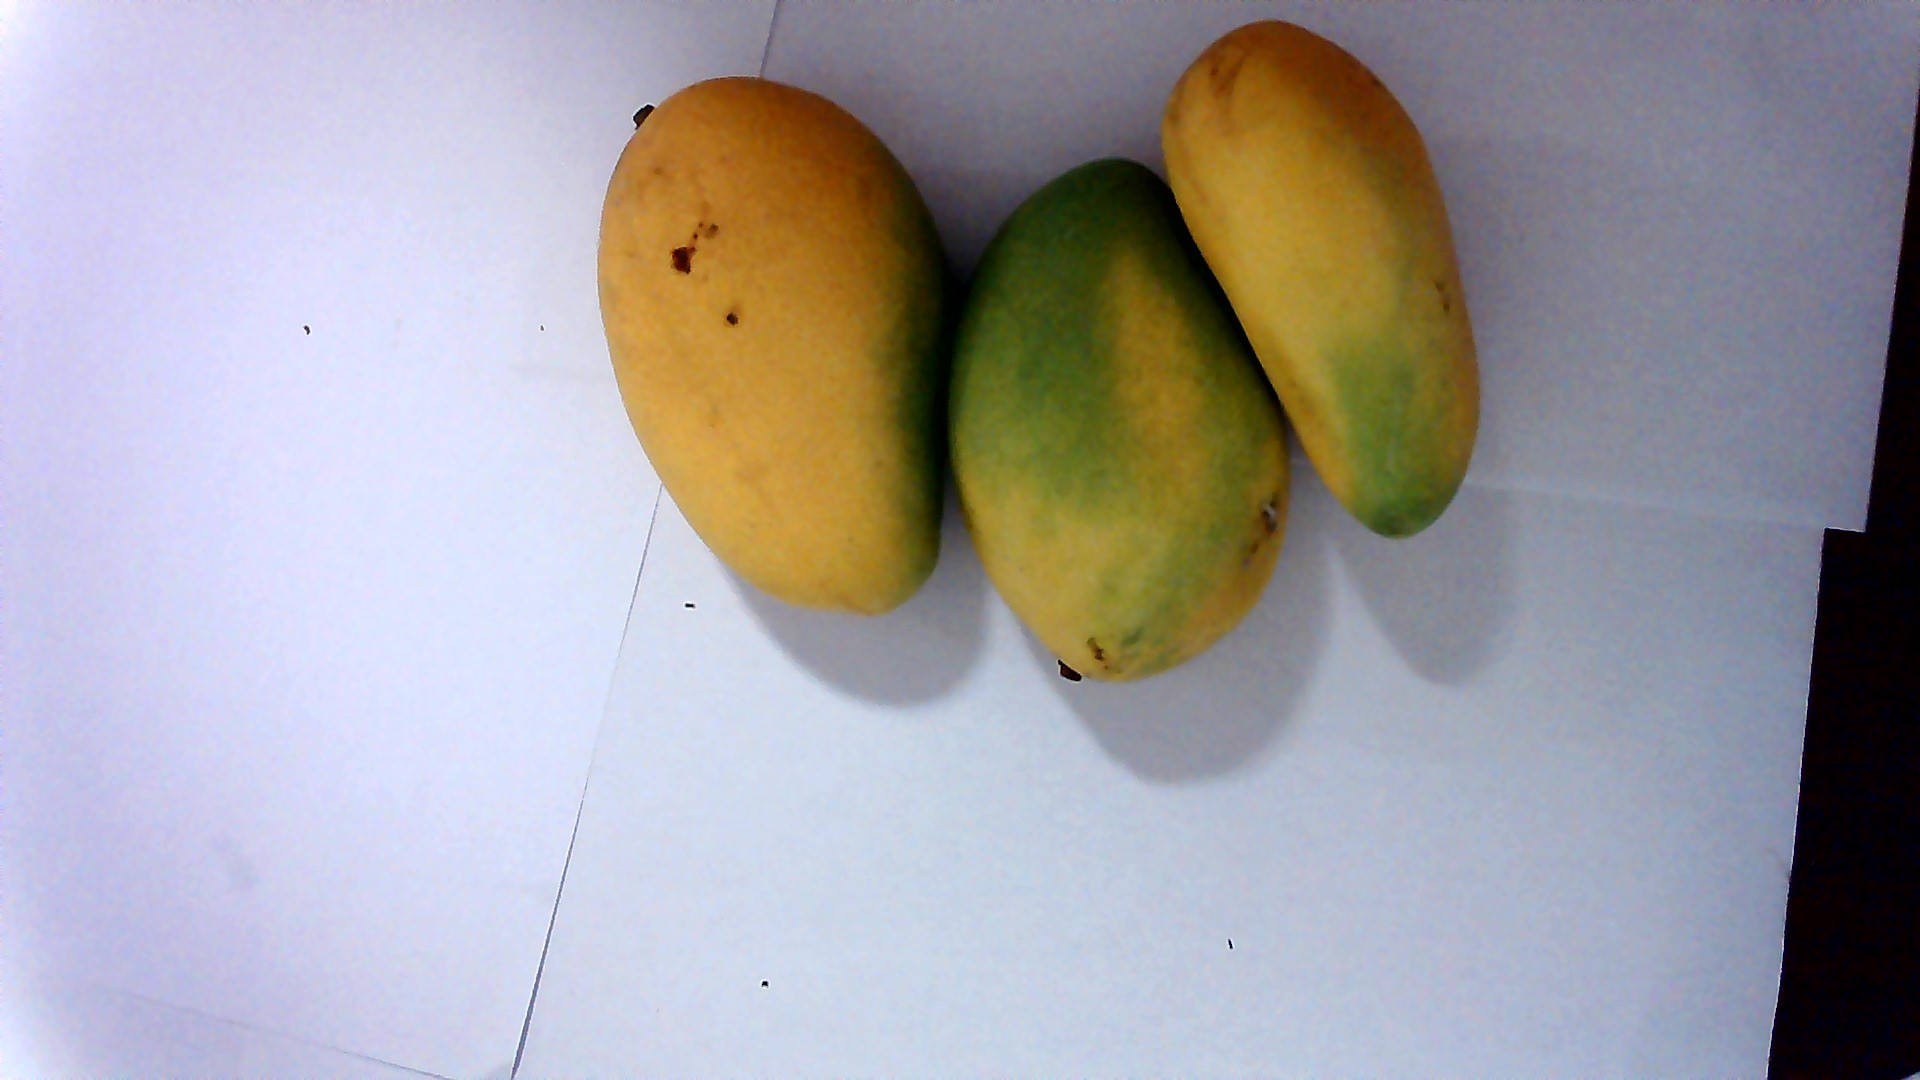mongo: (1158, 46, 1520, 524), (609, 100, 940, 601), (960, 169, 1270, 692)
